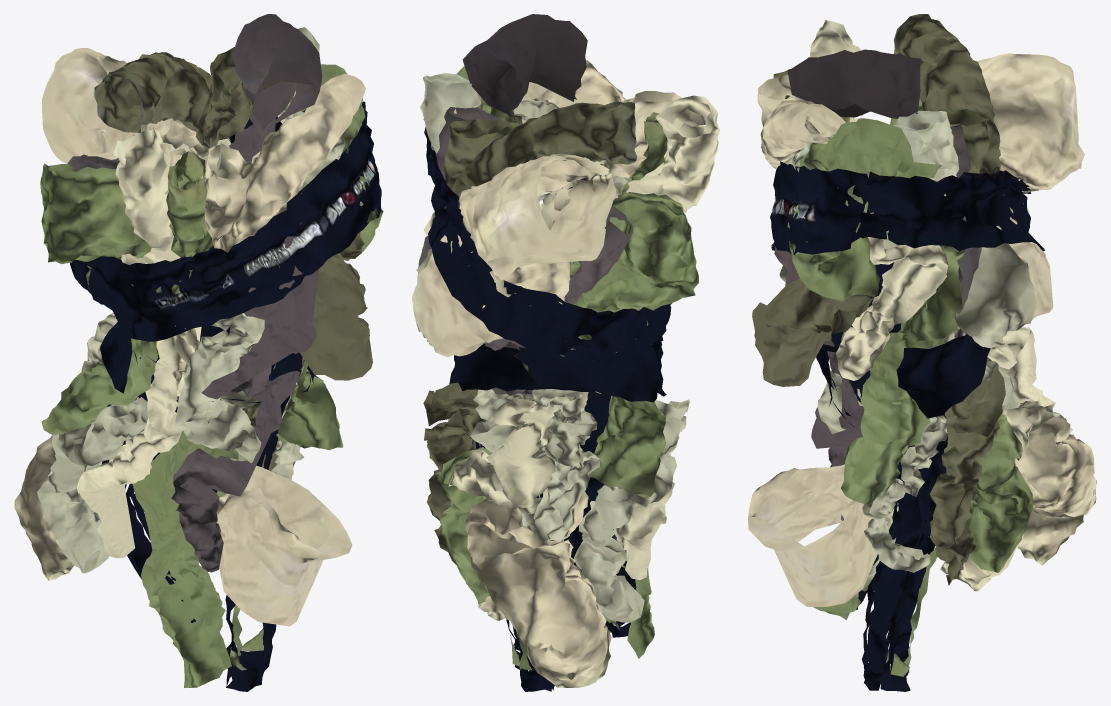
The model's file is pilesolo-opt-v3.glb.
3 views of the same model, side by side, from view 1: azimuth 30°, elevation 25°; view 2: azimuth 150°, elevation 25°; view 3: azimuth 270°, elevation 25° (orthographic).
Visible parts, largest first — view 1: Pattern_1064165.002; view 2: Pattern_1064165.002; view 3: Pattern_1064165.002.
Part boxes in pixels (x1,y1,x2,y2): Pattern_1064165.002: (14, 14, 383, 691); Pattern_1064165.002: (412, 14, 719, 691); Pattern_1064165.002: (748, 14, 1096, 691).
Bounding box in the file's own units: 4.77 × 10.33 × 4.99.
1 material, 1 textured.
